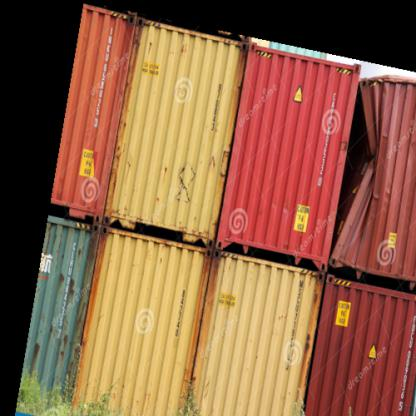Damage: (320, 72, 388, 263)
